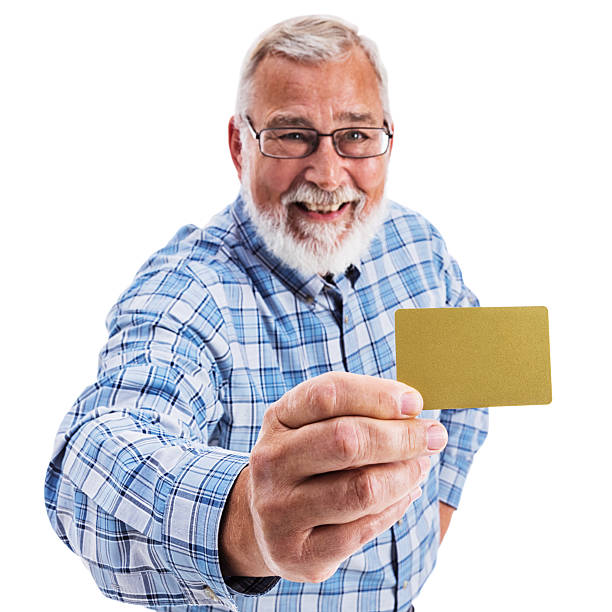tarjeta: (393, 305, 554, 411)
